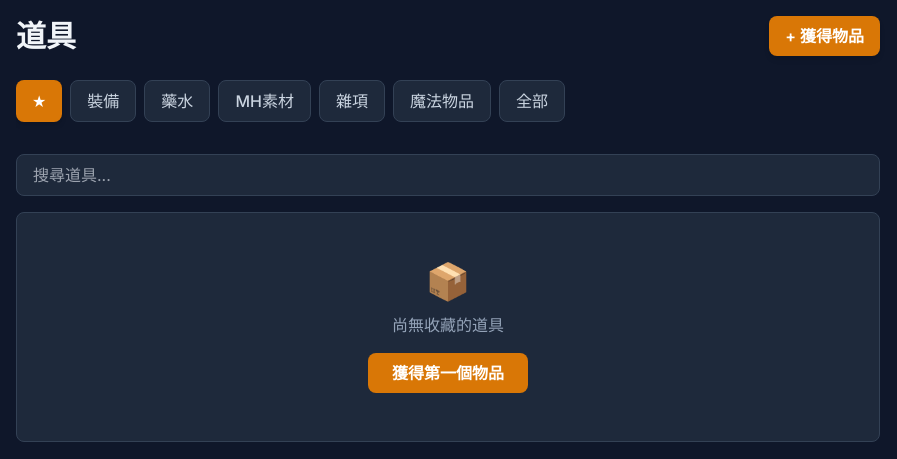
Test case: ItemsPage › 切到「全部」分類後，無物品時顯示「尚無道具」
Check: the text "尚無收藏的道具" is shown, box [392,315,504,335]
Click the button "全部": (532, 101) [499,80,565,122]
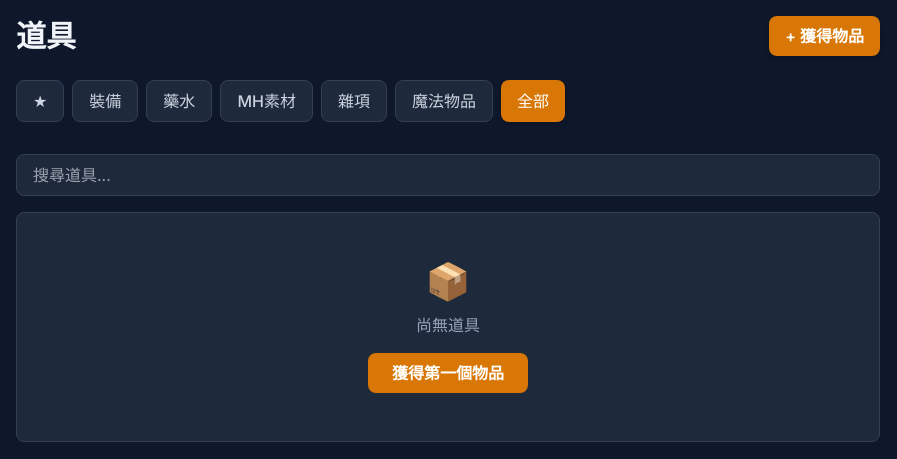
Check: the text "尚無道具" is shown, box [416,315,480,335]
